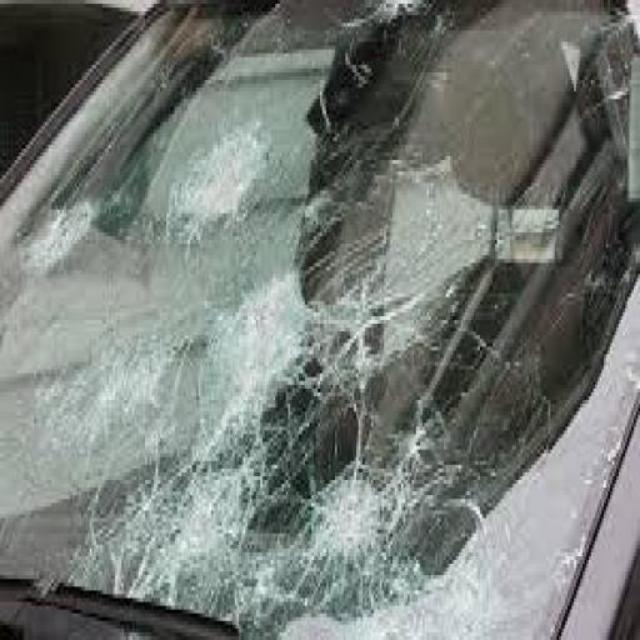glass shatter: (28, 223, 572, 640), (171, 122, 277, 244), (14, 181, 105, 286)
